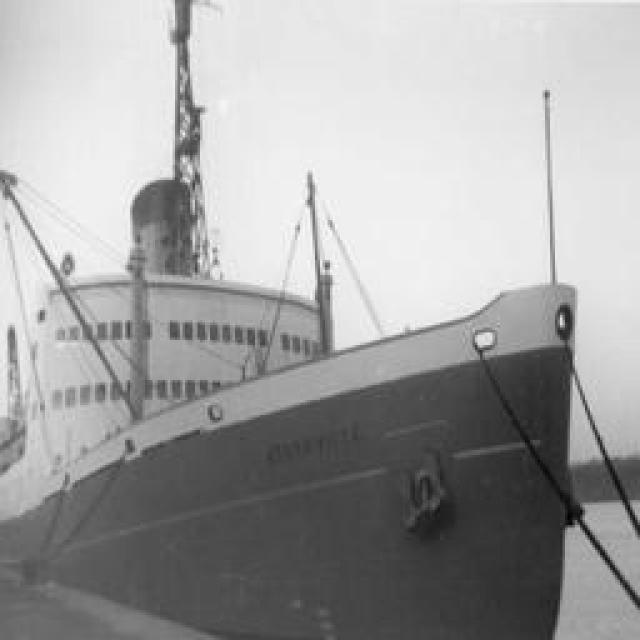Ship: (5, 4, 583, 640)
